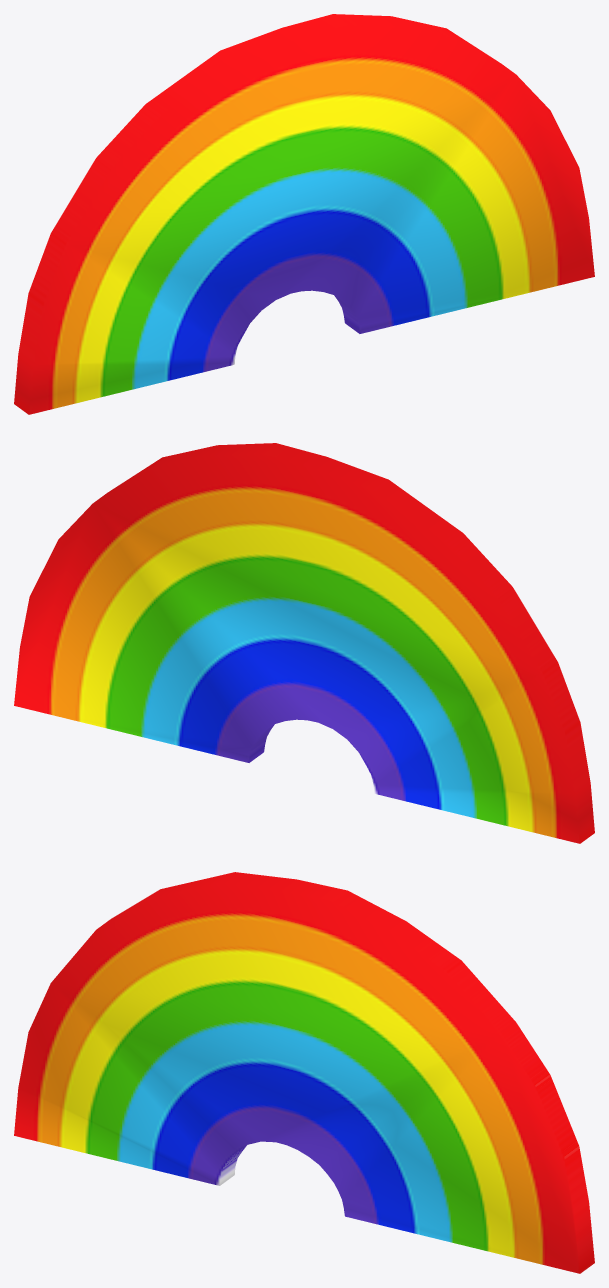
The model's file is rainbow.glb.
3 views of the same model, one above another, from view 1: azimuth 30°, elevation 25°; view 2: azimuth 150°, elevation 25°; view 3: azimuth 330°, elevation 25° (orthographic).
Parts seen in each view (by area): view 1: Rainbow; view 2: Rainbow; view 3: Rainbow.
Part boxes in pixels (x1=…): Rainbow: x1=14, y1=14, x2=594, y2=414; Rainbow: x1=14, y1=443, x2=594, y2=843; Rainbow: x1=14, y1=872, x2=594, y2=1273.
Size of the model in its own units: 0.8812 by 0.4644 by 0.0402.
Materials: 1 (1 with a texture image).
